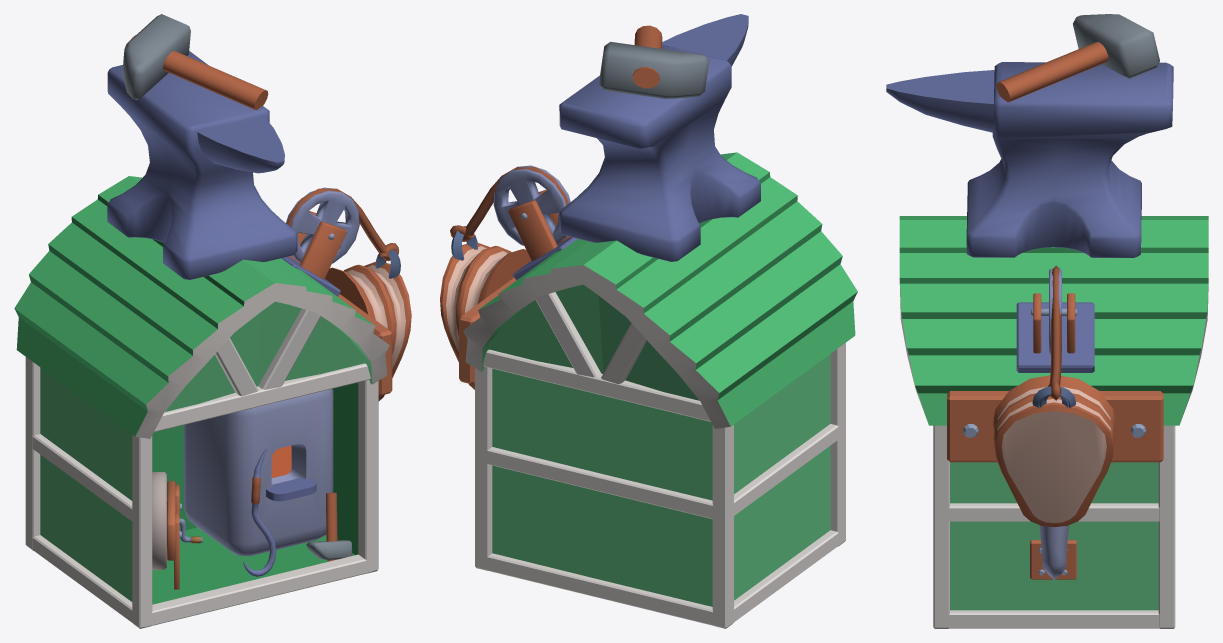
The model's file is Forge.fbx.
The picture shows the model from 3 angles, left to right: view 1: azimuth 30°, elevation 25°; view 2: azimuth 150°, elevation 25°; view 3: azimuth 270°, elevation 25°; orthographic projection. The views are drawn at different scales.
Parts seen in each view (by area): view 1: Forge, Forge.001, Forge.003, Forge.002, Forge.009, Forge.006, Forge.005, Forge.004, Forge.012, Forge.010; view 2: Forge, Forge.001, Forge.002, Forge.009, Forge.006, Forge.010; view 3: Forge, Forge.001, Forge.006, Forge.002, Forge.009, Forge.007, Forge.010.
Part boxes in pixels (x1,y1,x2,y2): Forge: (14, 176, 392, 628); Forge.001: (107, 51, 297, 279); Forge.003: (184, 388, 333, 556); Forge.002: (122, 14, 268, 110); Forge.009: (281, 187, 359, 296); Forge.006: (325, 249, 411, 401); Forge.005: (152, 472, 202, 589); Forge.004: (306, 492, 352, 561); Forge.012: (243, 448, 276, 576); Forge.010: (287, 188, 398, 261); Forge: (459, 152, 857, 628); Forge.001: (559, 14, 760, 261); Forge.002: (599, 25, 709, 98); Forge.009: (493, 165, 577, 280); Forge.006: (440, 226, 531, 389); Forge.010: (450, 167, 571, 241); Forge: (899, 216, 1208, 628); Forge.001: (886, 62, 1173, 257); Forge.006: (993, 375, 1115, 527); Forge.002: (996, 14, 1159, 102); Forge.009: (1016, 268, 1094, 372); Forge.007: (1039, 525, 1068, 580); Forge.010: (1048, 265, 1061, 400).
Size of the model in its own units: 9 by 13.55 by 7.33.
